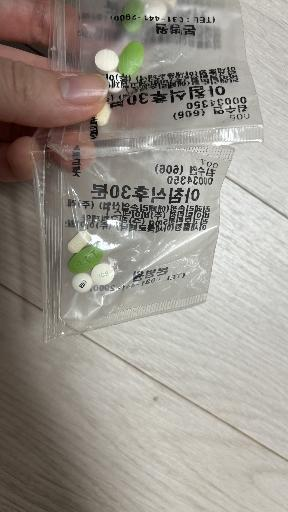Acecool: (95, 49, 119, 72), (91, 263, 114, 285)
BI-Tilin: (68, 246, 103, 274), (118, 41, 144, 75)
Lebamotin: (68, 230, 91, 253)
Leperisone: (72, 273, 93, 293)
vinyl: (35, 146, 234, 341), (49, 0, 263, 156)
